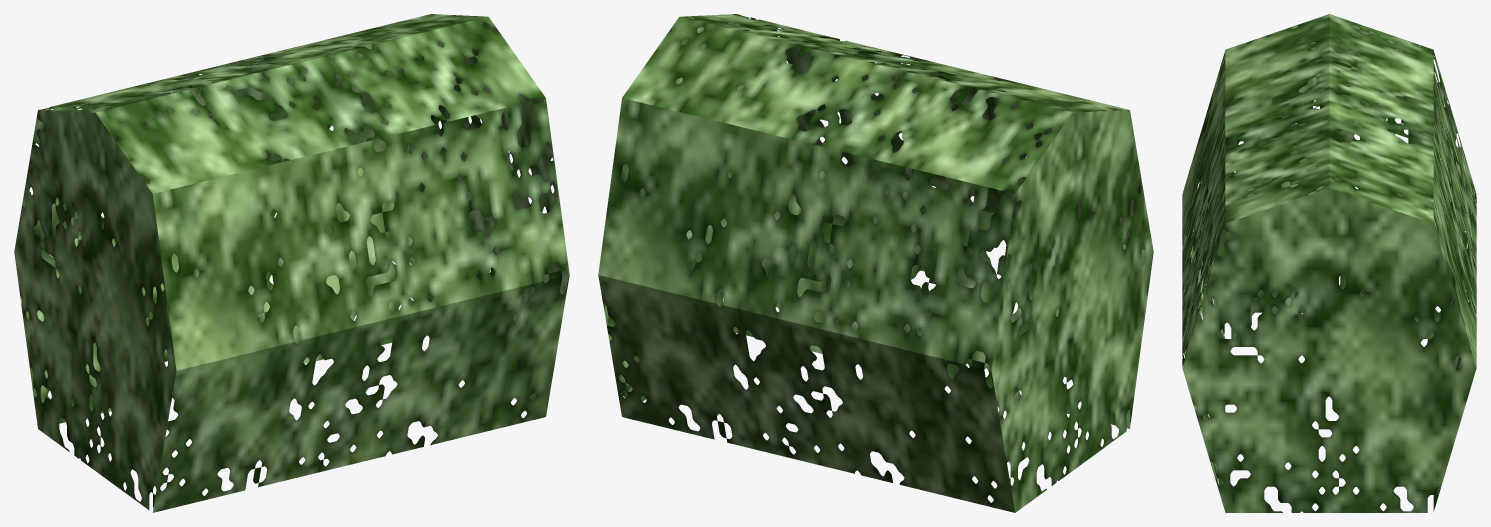
Rendered from bush_long_half_summer.fbx.
3 views of the same model, side by side, from view 1: azimuth 30°, elevation 25°; view 2: azimuth 150°, elevation 25°; view 3: azimuth 270°, elevation 25° (orthographic). The views are drawn at different scales.
Visible parts, largest first — view 1: bush_long_half_summer; view 2: bush_long_half_summer; view 3: bush_long_half_summer.
Part boxes in pixels (x1,y1,x2,y2): bush_long_half_summer: (14, 14, 569, 512); bush_long_half_summer: (598, 14, 1153, 512); bush_long_half_summer: (1182, 14, 1476, 512).
Bounding box in the file's own units: 101 × 87.65 × 71.91.
1 material, 1 textured.
